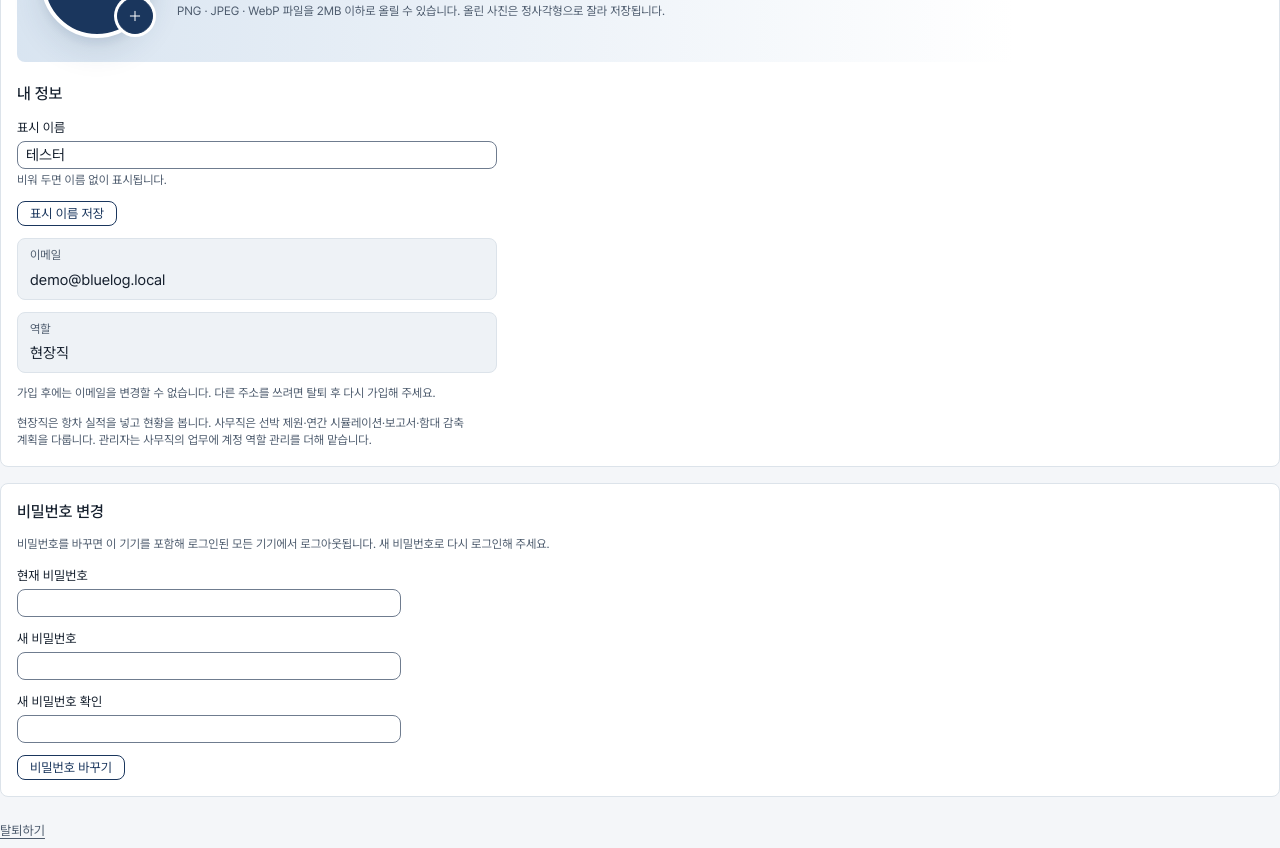
되돌릴 수 없는 조작이라 확인을 받는다 (#754) › 확인 단계에서 취소할 수 있다
(page scrolled)
Click the button "탈퇴하기": (22, 830) x1=0 y1=821 x2=45 y2=840
(page scrolled)
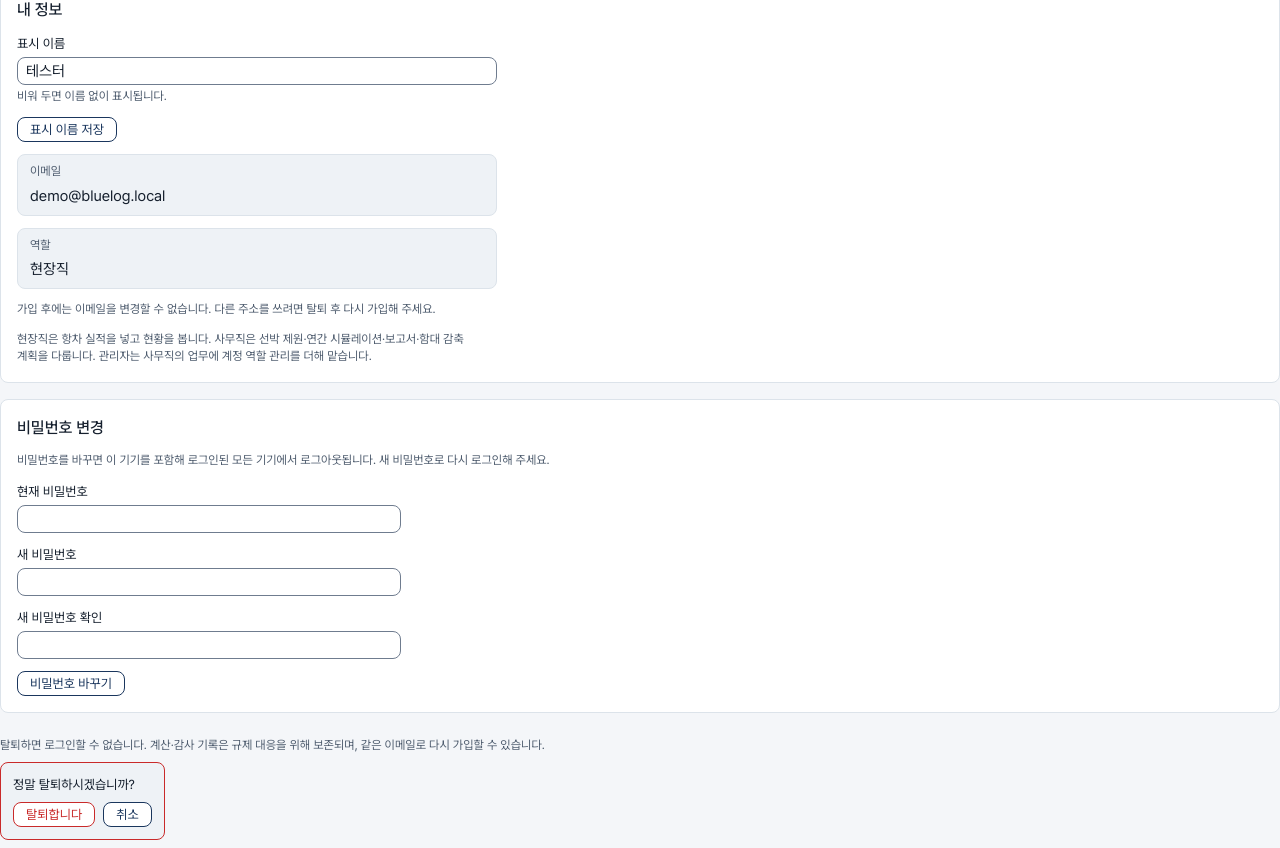
Click the button "취소": (127, 815) x1=103 y1=802 x2=152 y2=828
(page scrolled)
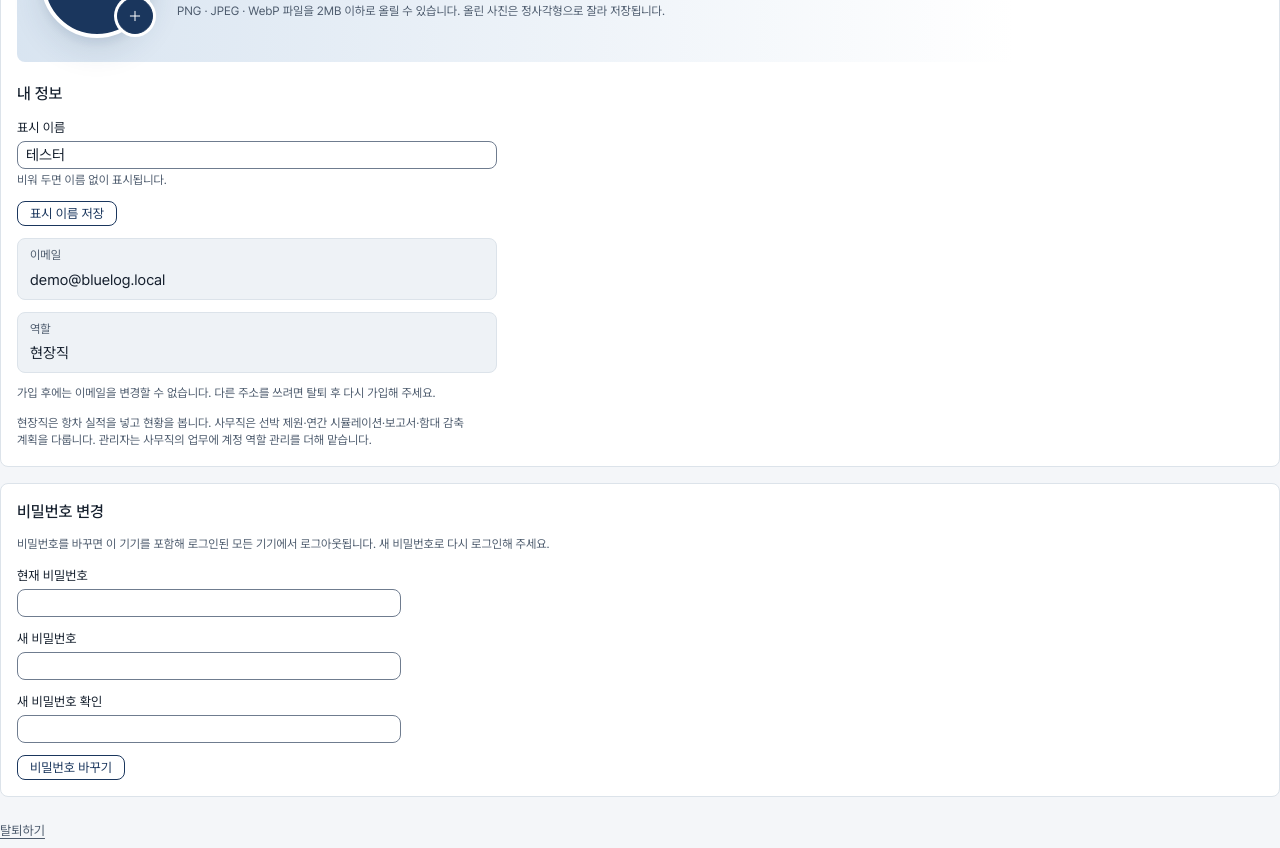
Now the text "정말 탈퇴하시겠습니까?" is gone
Now the button "탈퇴하기" is shown, box x1=0 y1=821 x2=45 y2=840
